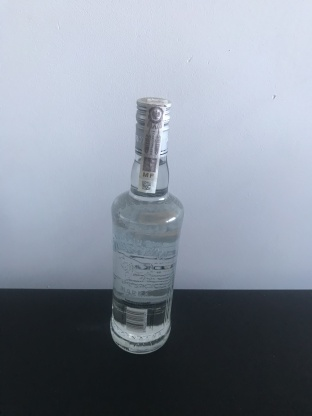nakretka: (132, 92, 173, 159)
